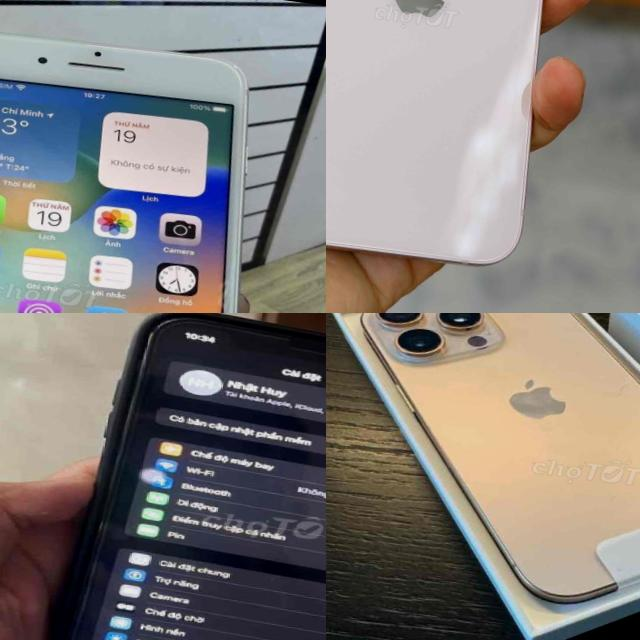gen_12_13: (326, 0, 587, 274)
gen_16: (359, 313, 640, 602)
gen_7_8: (0, 4, 296, 313)
gen_x_xs: (43, 313, 326, 640)
